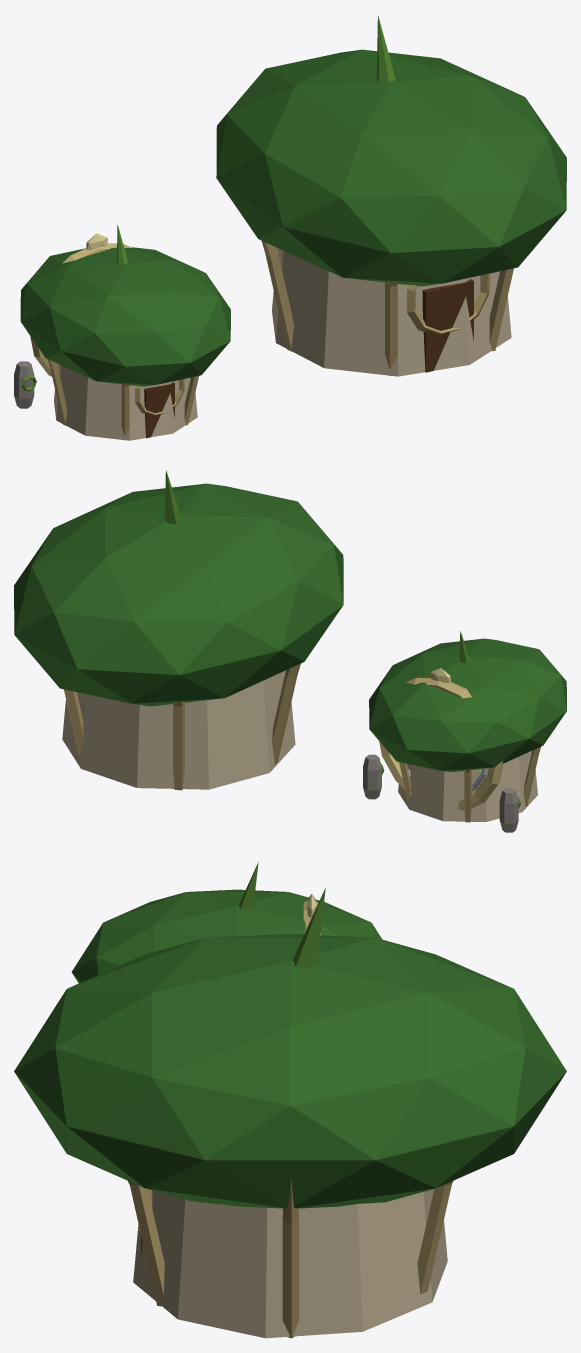
The model's file is elf_court_broken.glb.
3 renders of one model, top to bottom at view 1: azimuth 30°, elevation 25°; view 2: azimuth 150°, elevation 25°; view 3: azimuth 270°, elevation 25°, orthographic. The views are drawn at different scales.
Visible parts, largest first — view 1: elf_court_piece3, elf_court_piece6, elf_court_piece2, elf_court_piece4, elf_court_piece10, elf_court_piece9, elf_court_piece8, elf_court_piece1, elf_court_piece7, elf_court_piece5; view 2: elf_court_piece0, elf_court_piece7, elf_court_piece3, elf_court_piece4, elf_court_piece1, elf_court_piece6, elf_court_piece5, elf_court_piece10, elf_court_piece9, elf_court_piece2; view 3: elf_court_piece1, elf_court_piece2, elf_court_piece6, elf_court_piece5, elf_court_piece4, elf_court_piece9, elf_court_piece7, elf_court_piece3, elf_court_piece0.
Boxes of the visible parts, x1,y1,x2,y2 form: elf_court_piece3: [216, 110, 494, 324]; elf_court_piece6: [14, 224, 230, 440]; elf_court_piece2: [397, 72, 566, 374]; elf_court_piece4: [216, 15, 412, 264]; elf_court_piece10: [275, 249, 409, 376]; elf_court_piece9: [378, 90, 494, 237]; elf_court_piece8: [205, 222, 428, 325]; elf_court_piece1: [311, 49, 566, 191]; elf_court_piece7: [14, 233, 230, 427]; elf_court_piece5: [313, 54, 410, 84]; elf_court_piece0: [62, 571, 263, 790]; elf_court_piece7: [363, 646, 517, 832]; elf_court_piece3: [232, 495, 343, 740]; elf_court_piece4: [135, 470, 253, 713]; elf_court_piece1: [14, 489, 153, 717]; elf_court_piece6: [435, 631, 566, 822]; elf_court_piece5: [66, 513, 165, 775]; elf_court_piece10: [225, 695, 295, 774]; elf_court_piece9: [179, 485, 270, 513]; elf_court_piece2: [62, 483, 247, 754]; elf_court_piece1: [113, 985, 553, 1308]; elf_court_piece2: [14, 969, 399, 1338]; elf_court_piece6: [71, 862, 334, 983]; elf_court_piece5: [282, 964, 502, 1315]; elf_court_piece4: [207, 887, 511, 987]; elf_court_piece9: [22, 946, 263, 1060]; elf_court_piece7: [216, 894, 382, 939]; elf_court_piece3: [18, 934, 343, 1064]; elf_court_piece0: [426, 973, 566, 1285].
Bounding box in the file's own units: 2.58 × 1.45 × 1.87.
